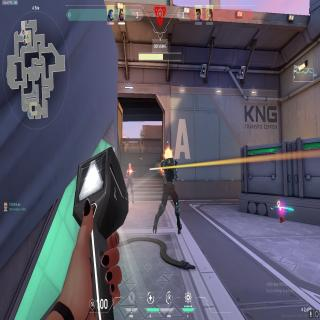ENEMY-BODY: (86, 299, 94, 320)
ENEMY-HEAD: (128, 162, 131, 170)
